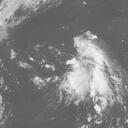cyclone: (58, 30, 124, 110)
